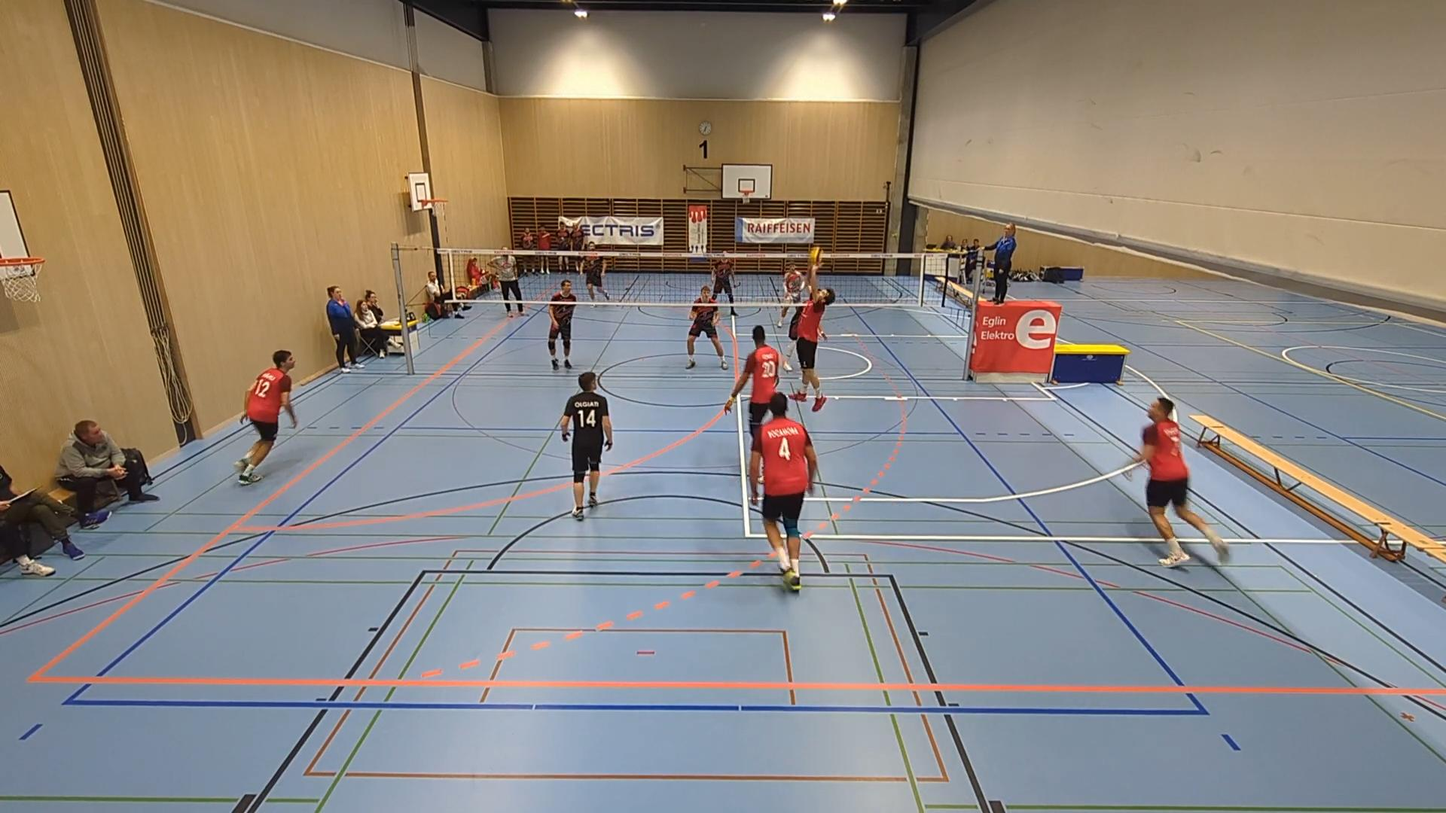Player: (1133, 398, 1228, 567), (749, 393, 817, 589), (235, 350, 297, 485), (560, 372, 612, 520), (725, 325, 780, 437), (686, 285, 727, 369), (548, 280, 577, 370), (776, 264, 806, 340), (776, 265, 804, 327), (581, 242, 609, 300), (712, 257, 736, 316)
Set: (783, 266, 840, 415)
ball: (809, 244, 825, 261)
